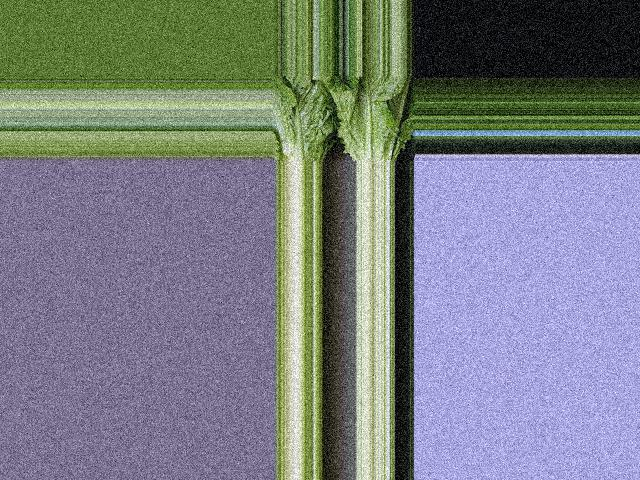lettuce: (276, 80, 332, 162)
